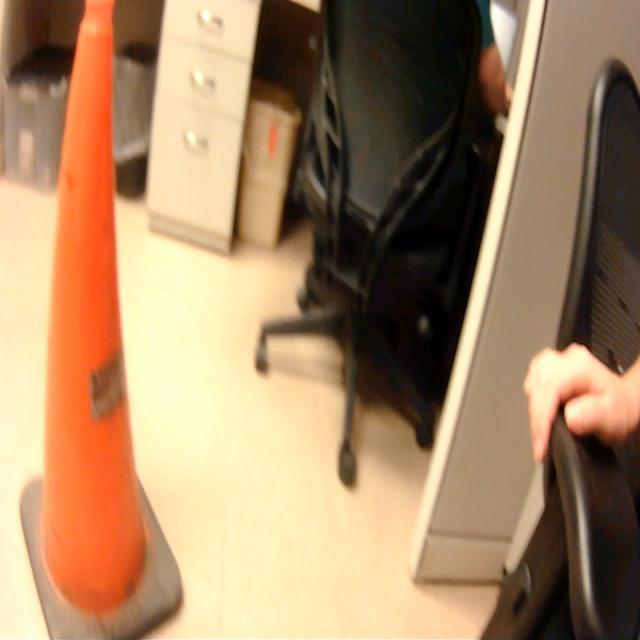traffic cone: (16, 1, 190, 640)
